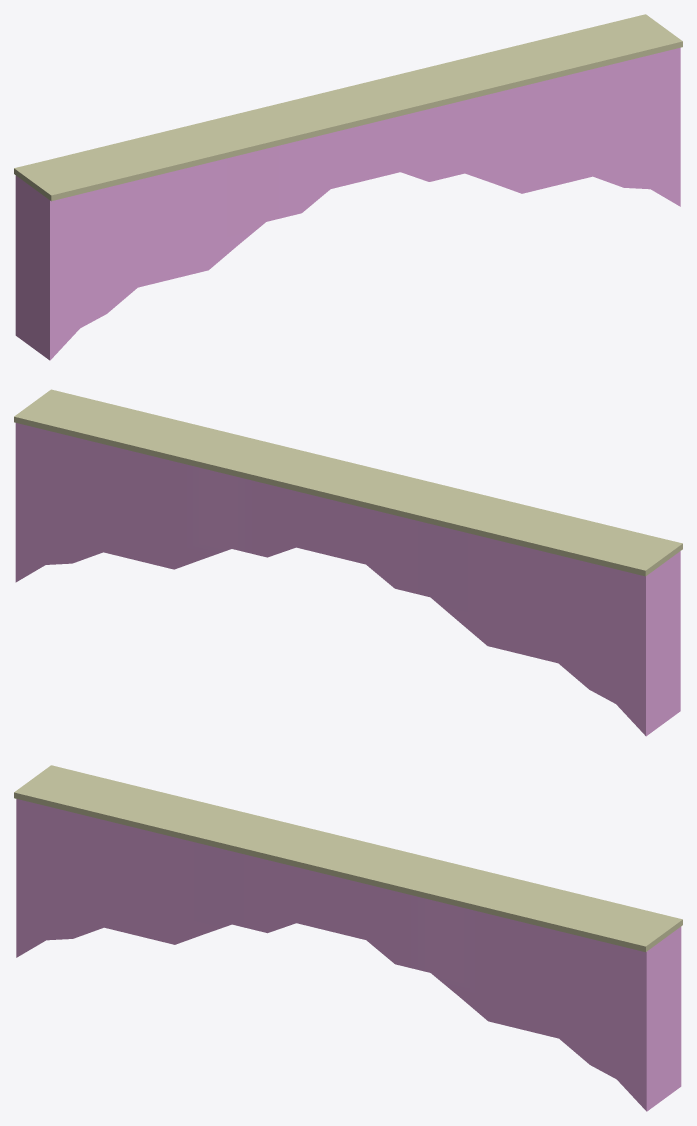
The model's file is Bridge_Big_02.fbx.
The picture shows the model from 3 angles, top to bottom: view 1: azimuth 30°, elevation 25°; view 2: azimuth 150°, elevation 25°; view 3: azimuth 330°, elevation 25°; orthographic projection.
Visible parts, largest first — view 1: Bridge_Big_02; view 2: Bridge_Big_02; view 3: Bridge_Big_02.
Boxes of the visible parts, x1,y1,x2,y2 form: Bridge_Big_02: (14,14,682,360); Bridge_Big_02: (14,389,682,736); Bridge_Big_02: (14,765,682,1111).
Bounding box in the file's own units: 3239 × 817 × 331.
